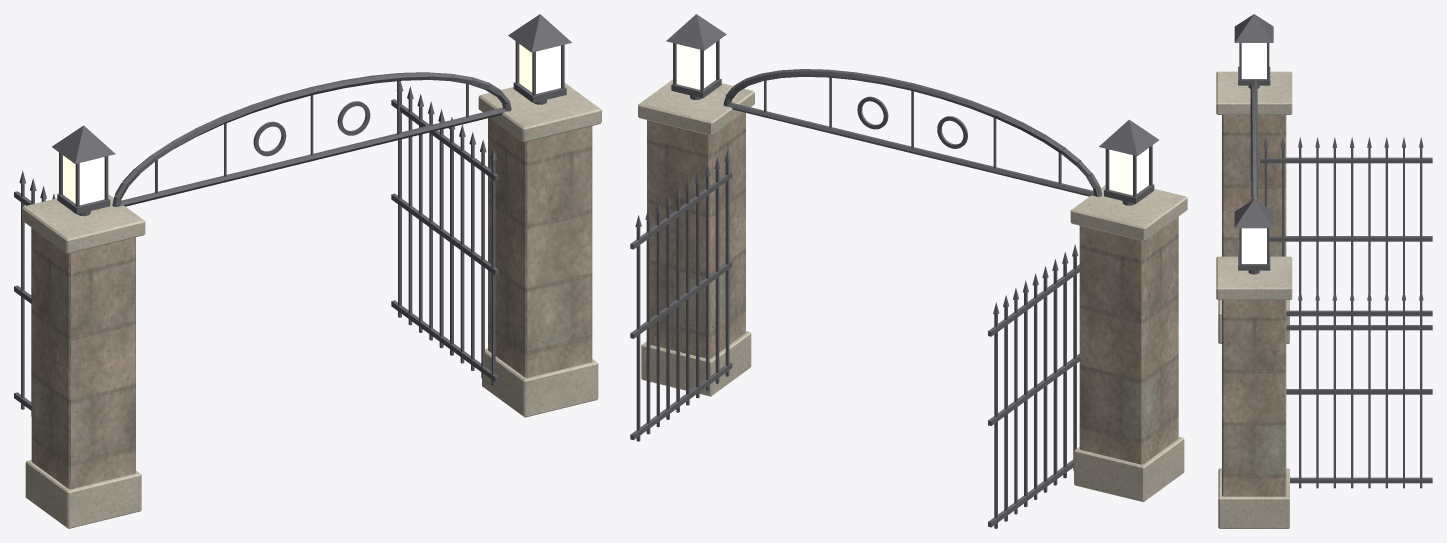
Rendered from gate.glb.
3 views of the same model, side by side, from view 1: azimuth 30°, elevation 25°; view 2: azimuth 150°, elevation 25°; view 3: azimuth 270°, elevation 25° (orthographic). The views are drawn at different scales.
Parts seen in each view (by area): view 1: gate_bstone, gate_iron, gate_carve, gate_lamp_glass; view 2: gate_bstone, gate_iron, gate_carve, gate_lamp_glass; view 3: gate_bstone, gate_iron, gate_carve, gate_lamp_glass.
Part boxes in pixels (left/top/right/bottom): gate_bstone: left=31, top=118, right=592, bottom=489; gate_iron: left=14, top=14, right=571, bottom=416; gate_carve: left=22, top=83, right=601, bottom=528; gate_lamp_glass: left=63, top=44, right=560, bottom=205; gate_bstone: left=647, top=112, right=1178, bottom=464; gate_iron: left=630, top=14, right=1158, bottom=528; gate_carve: left=638, top=79, right=1187, bottom=502; gate_lamp_glass: left=676, top=42, right=1148, bottom=195; gate_bstone: left=1222, top=115, right=1286, bottom=496; gate_iron: left=1234, top=14, right=1432, bottom=488; gate_carve: left=1216, top=71, right=1292, bottom=528; gate_lamp_glass: left=1241, top=43, right=1266, bottom=263.
Bounding box in the file's own units: 4.46 × 3.02 × 1.88.
Materials: 4 (2 with a texture image).
